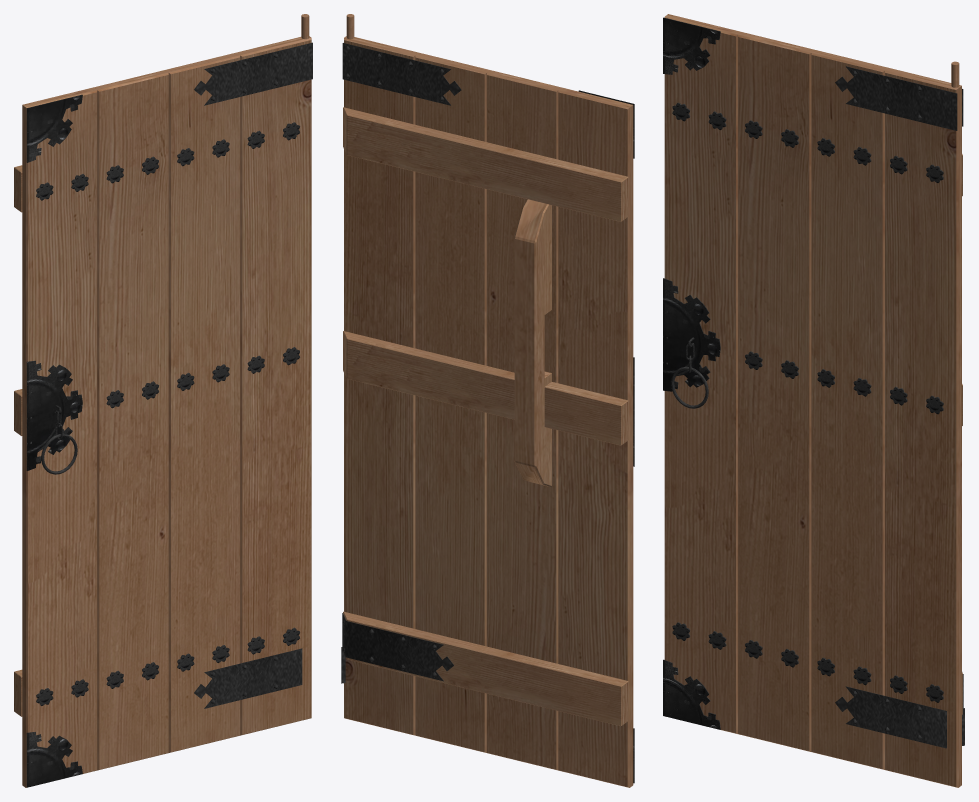
Rendered from SM_Baeryeom_Door_B3.fbx.
3 views of the same model, side by side, from view 1: azimuth 30°, elevation 25°; view 2: azimuth 150°, elevation 25°; view 3: azimuth 330°, elevation 25° (orthographic). The views are drawn at different scales.
Visible parts, largest first — view 1: SM_Baeryeom_Door_B3; view 2: SM_Baeryeom_Door_B3; view 3: SM_Baeryeom_Door_B3.
Part boxes in pixels (bbox=[...]): SM_Baeryeom_Door_B3: bbox=[14, 14, 312, 787]; SM_Baeryeom_Door_B3: bbox=[341, 14, 634, 787]; SM_Baeryeom_Door_B3: bbox=[663, 14, 964, 787].
Size of the model in its own units: 86.48 by 203 by 14.2.
